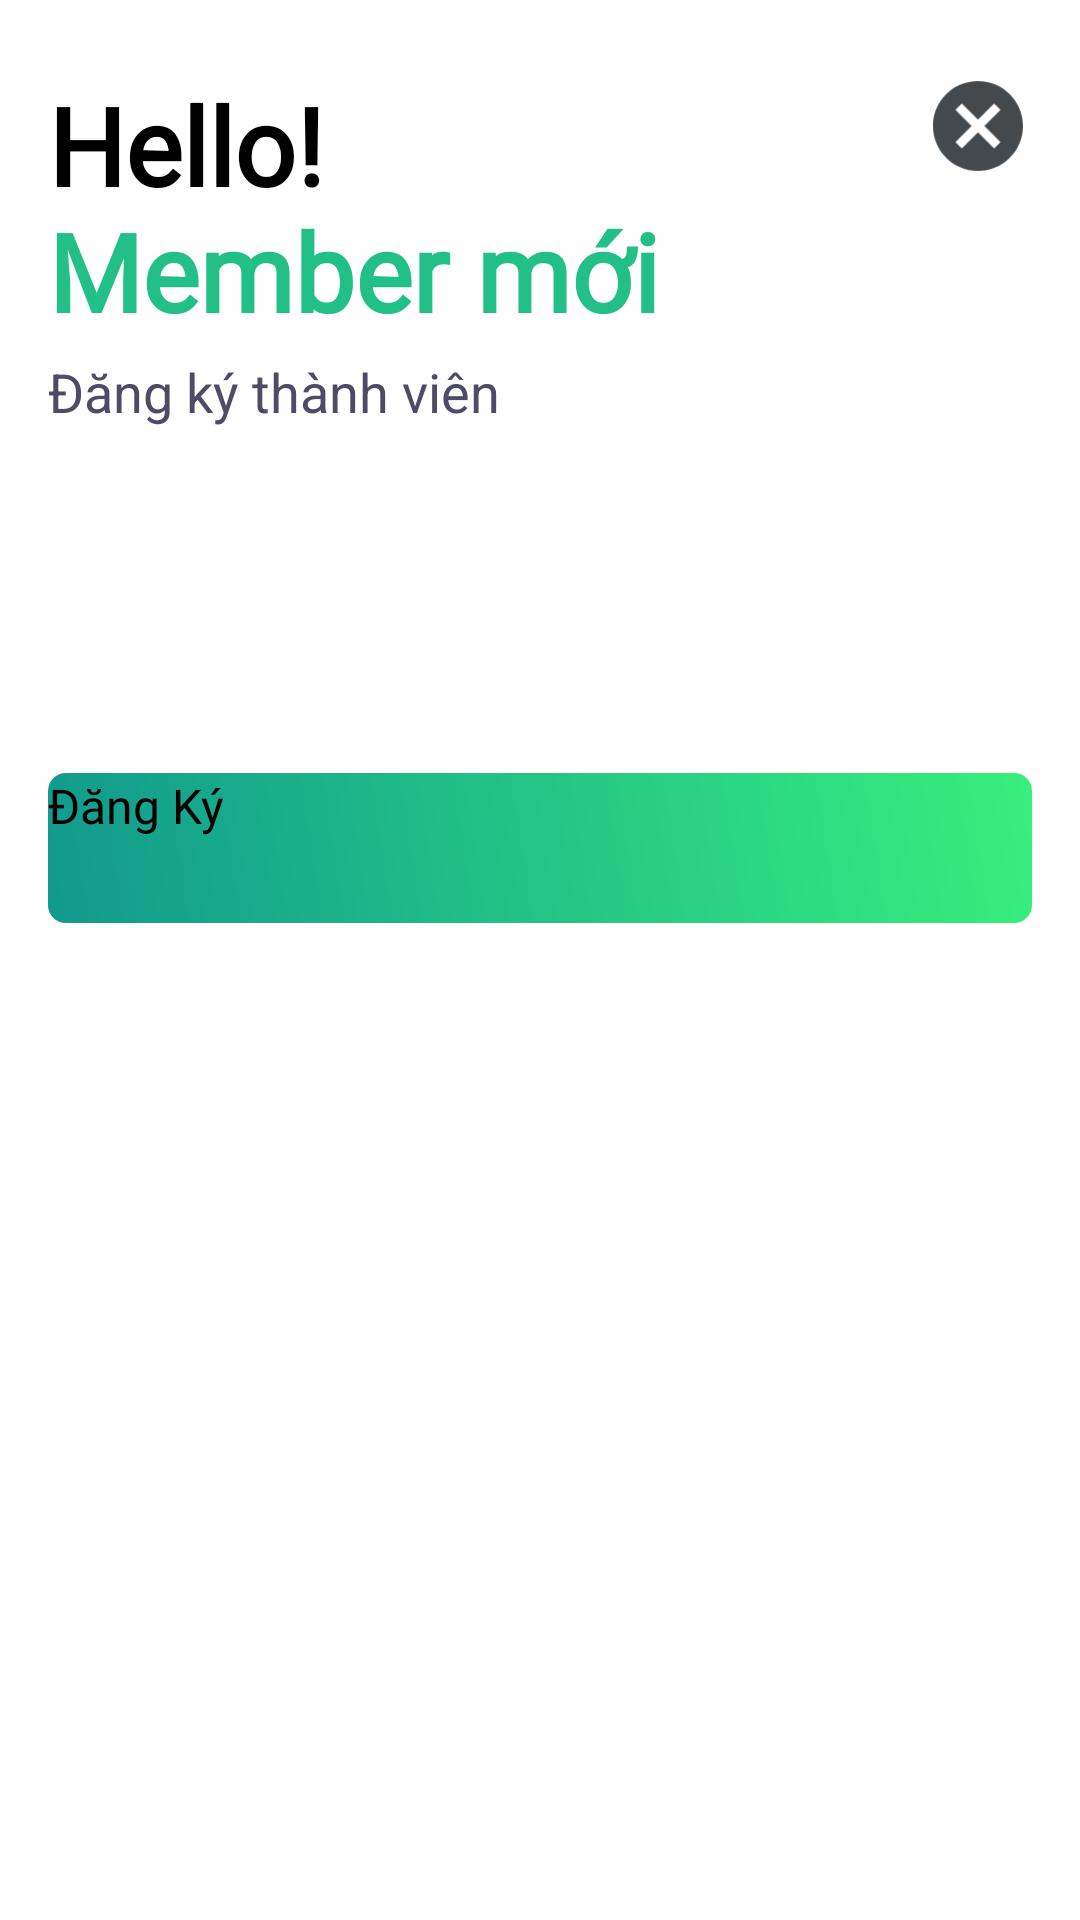

Icon bounding boxes for this 1080 x 1920 phone screenshot, format (x1, y1, x2, y2):
cancel: (933, 81, 1023, 171)
